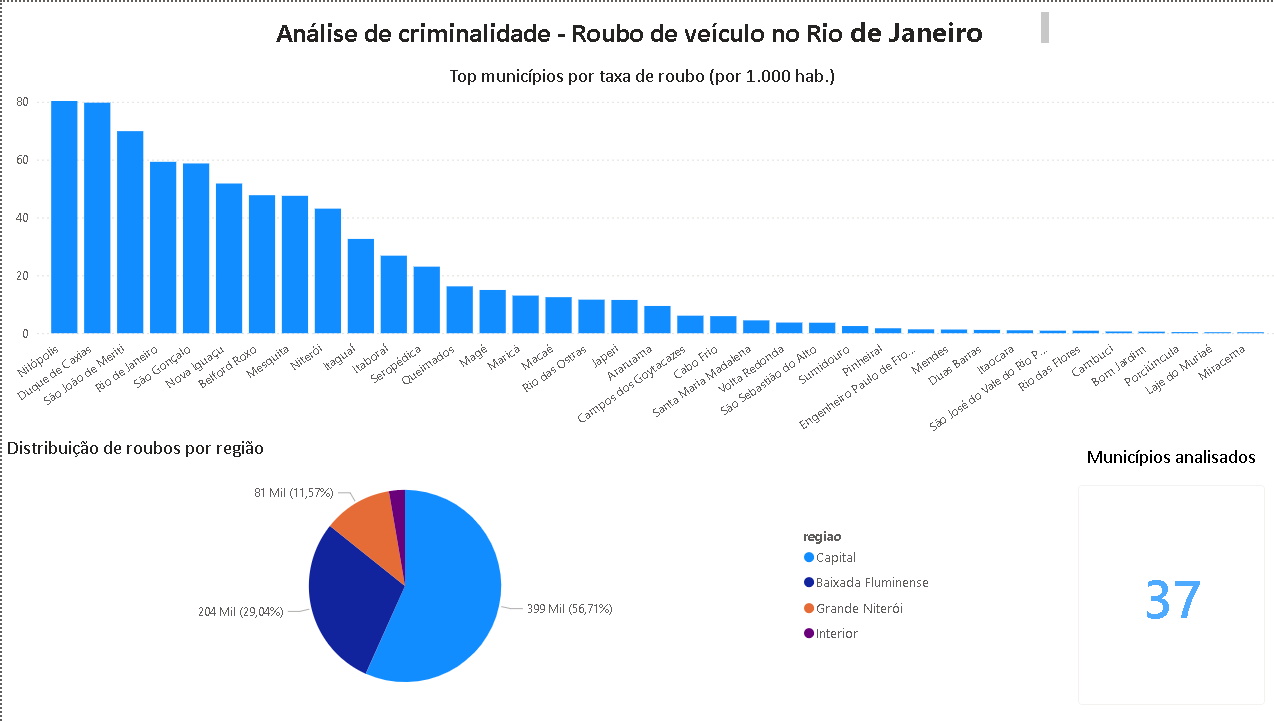

Layout of this report page (visuals, bound fields, positions):
{"tool":"powerbi","page":{"name":"Página 1","canvas":[1280,720],"ordinal":0},"visuals":[{"type":"columnChart","title":"Top municípios por taxa de roubo (por 1.000 hab.)","fields":{"Category":["Sheet1.munic"],"Y":["Sum(Sheet1.taxa_por_1000)"]},"box":[0,62.2,1280,380.3],"z":0},{"type":"cardVisual","title":"Municípios analisados","fields":{"Data":["CountNonNull(Sheet1.munic)"]},"box":[1059.2,442.6,220.8,277.2],"z":1000},{"type":"pieChart","title":"Distribuição de roubos por região","fields":{"Category":["Sheet1.regiao"],"Y":["Sum(Sheet1.roubo_veiculo)"]},"box":[0,433.8,941.5,277.2],"z":2000},{"type":"textbox","box":[210,5,842,44],"z":3000}]}

Visuals, with their boxes in screenshot pixels (x1, y1, x2, y2), scaled from the page's 1280x720 canvas onto the 1274x722 screenshot:
"Top municípios por taxa de roubo (por 1.000 hab.)" columnChart: detection(0, 62, 1273, 444)
"Municípios analisados" cardVisual: detection(1054, 444, 1273, 721)
"Distribuição de roubos por região" pieChart: detection(0, 435, 937, 713)
textbox: detection(209, 5, 1047, 49)
